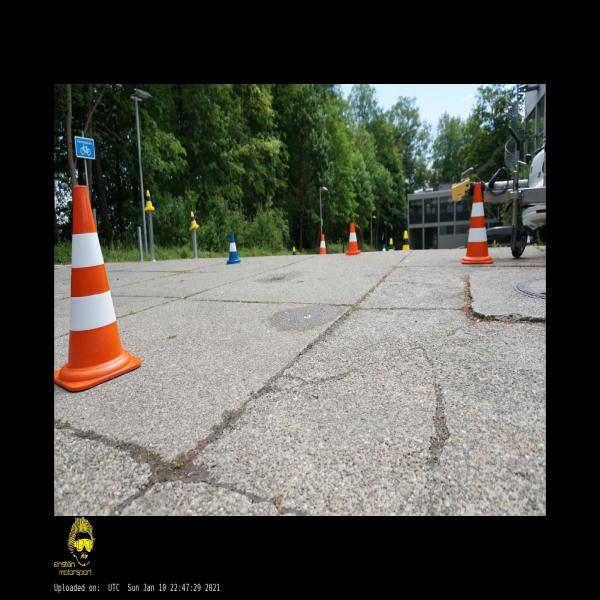blue_cone: (226, 234, 241, 264), (382, 244, 386, 251)
large_orange_cone: (54, 185, 141, 392), (461, 183, 493, 263)
orange_cone: (346, 223, 360, 255), (319, 234, 326, 254)
yellow_cone: (144, 189, 154, 210), (190, 211, 199, 230), (402, 230, 410, 250), (388, 238, 393, 251), (292, 247, 296, 255)
